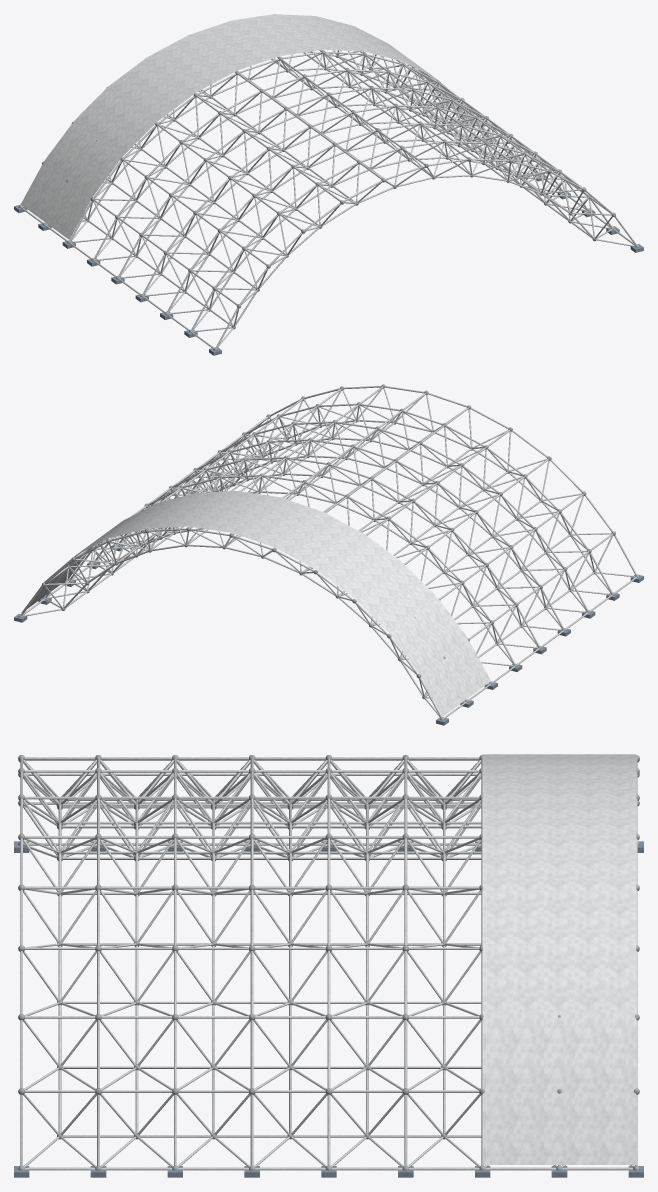
File: space-frames.glb
3 views of the same model, one above another, from view 1: azimuth 30°, elevation 25°; view 2: azimuth 150°, elevation 25°; view 3: azimuth 270°, elevation 25° (orthographic). The views are drawn at different scales.
Visible parts, largest first — view 1: RoofSheeting, WebDiagonals, TopChords, BottomChords, BallNodes, Columns(context); view 2: RoofSheeting, WebDiagonals, TopChords, BottomChords, BallNodes, Columns(context); view 3: RoofSheeting, WebDiagonals, TopChords, BottomChords, BallNodes, Columns(context).
Boxes of the visible parts, <box> form: RoofSheeting: <box>20,14,490,239</box>; WebDiagonals: <box>22,50,635,347</box>; TopChords: <box>21,50,636,348</box>; BottomChords: <box>82,51,593,326</box>; BallNodes: <box>18,50,639,350</box>; Columns(context): <box>14,103,643,355</box>; RoofSheeting: <box>21,491,490,716</box>; WebDiagonals: <box>22,388,635,717</box>; TopChords: <box>21,386,636,718</box>; BottomChords: <box>63,419,594,696</box>; BallNodes: <box>18,384,639,720</box>; Columns(context): <box>14,472,643,725</box>; RoofSheeting: <box>482,754,636,1164</box>; WebDiagonals: <box>23,759,633,1167</box>; TopChords: <box>20,757,637,1170</box>; BottomChords: <box>58,799,481,1137</box>; BallNodes: <box>18,755,639,1170</box>; Columns(context): <box>14,841,643,1177</box>.
Size of the model in its own units: 30.6 by 9.41 by 24.6.
4 materials, 4 textured.
